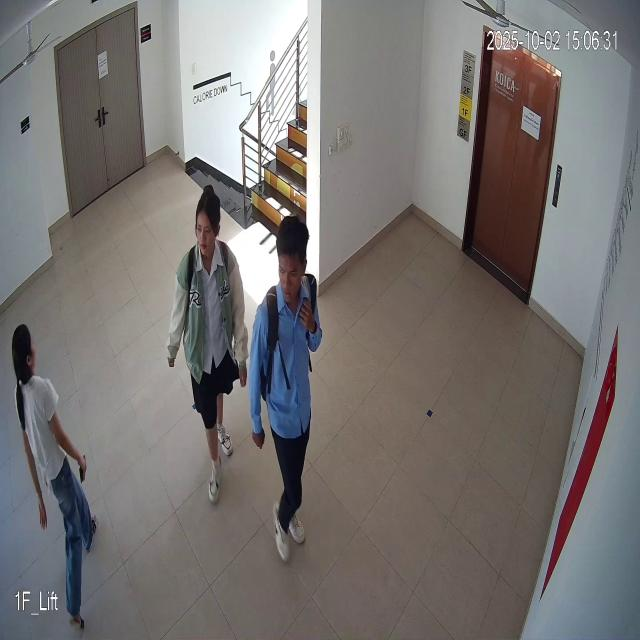face: (193, 185, 226, 258)
